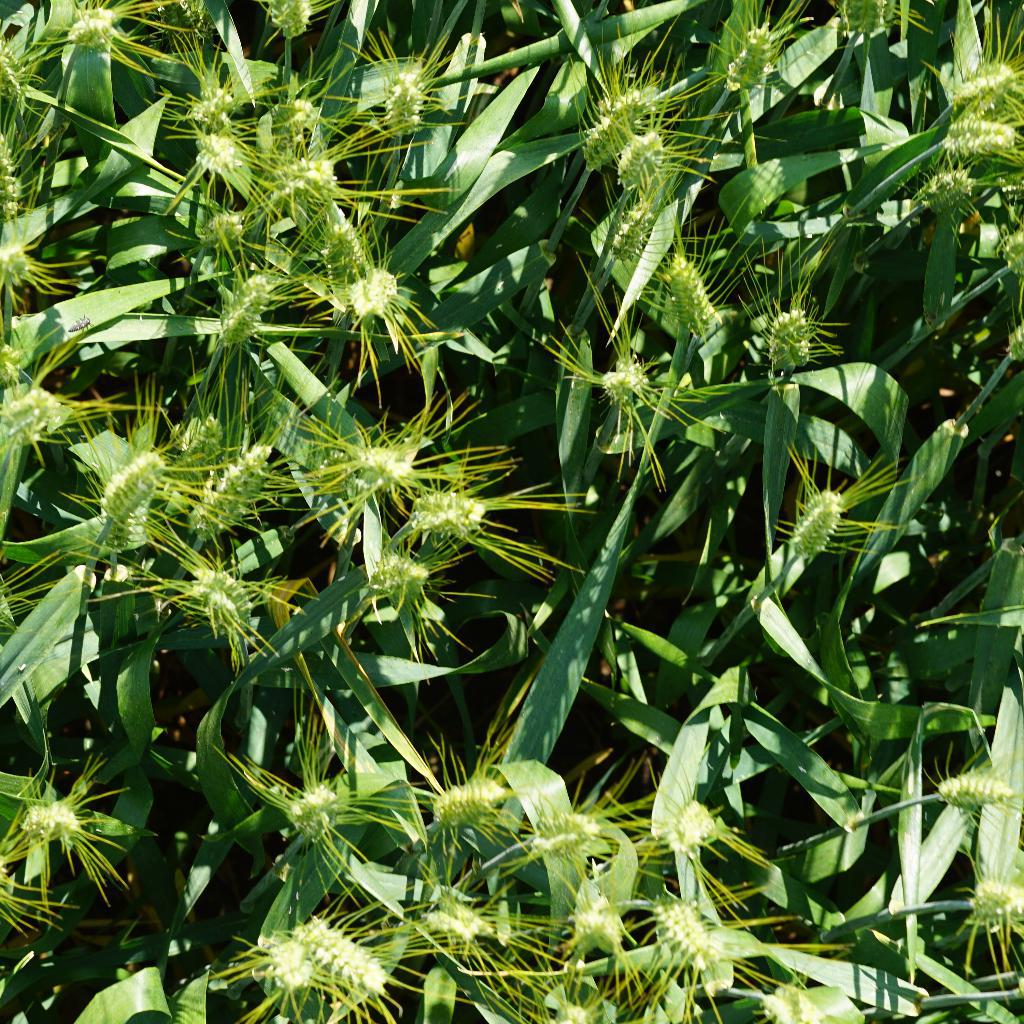0-0: (555, 74, 638, 168), (194, 448, 283, 535), (290, 916, 388, 991), (392, 479, 507, 542), (92, 437, 165, 529), (201, 276, 283, 350), (656, 893, 728, 971), (787, 482, 858, 561), (759, 301, 830, 374), (718, 14, 780, 97), (660, 251, 720, 332), (940, 758, 1017, 819), (200, 565, 264, 636), (934, 114, 1019, 167), (332, 428, 415, 482), (944, 60, 1024, 116), (318, 194, 384, 261), (249, 920, 314, 986), (21, 788, 92, 848), (602, 123, 665, 190), (286, 776, 347, 845), (0, 385, 70, 442), (347, 262, 413, 320), (433, 781, 512, 828), (761, 967, 826, 1024), (572, 894, 630, 956), (668, 788, 728, 847), (146, 0, 213, 52), (914, 157, 985, 206), (600, 351, 657, 411), (60, 0, 131, 48), (524, 815, 609, 855), (362, 552, 441, 595), (387, 64, 436, 133), (271, 92, 329, 150), (279, 159, 344, 210), (183, 70, 242, 124), (615, 194, 660, 264), (0, 131, 38, 207), (179, 410, 224, 474), (971, 870, 1024, 923), (183, 131, 245, 175), (425, 894, 482, 941), (204, 201, 253, 254), (261, 0, 316, 40)
